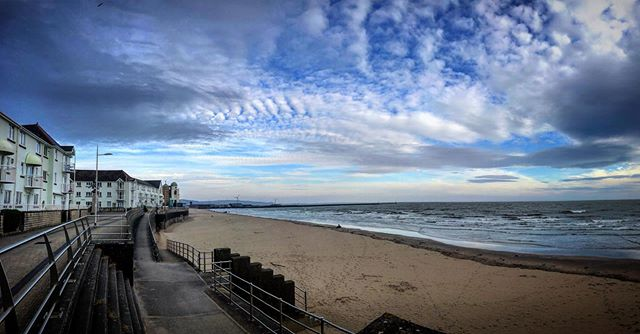beach: (179, 205, 640, 334)
building: (1, 119, 79, 211), (70, 167, 165, 207)
sea: (261, 202, 640, 253)
sky: (4, 2, 640, 182)
